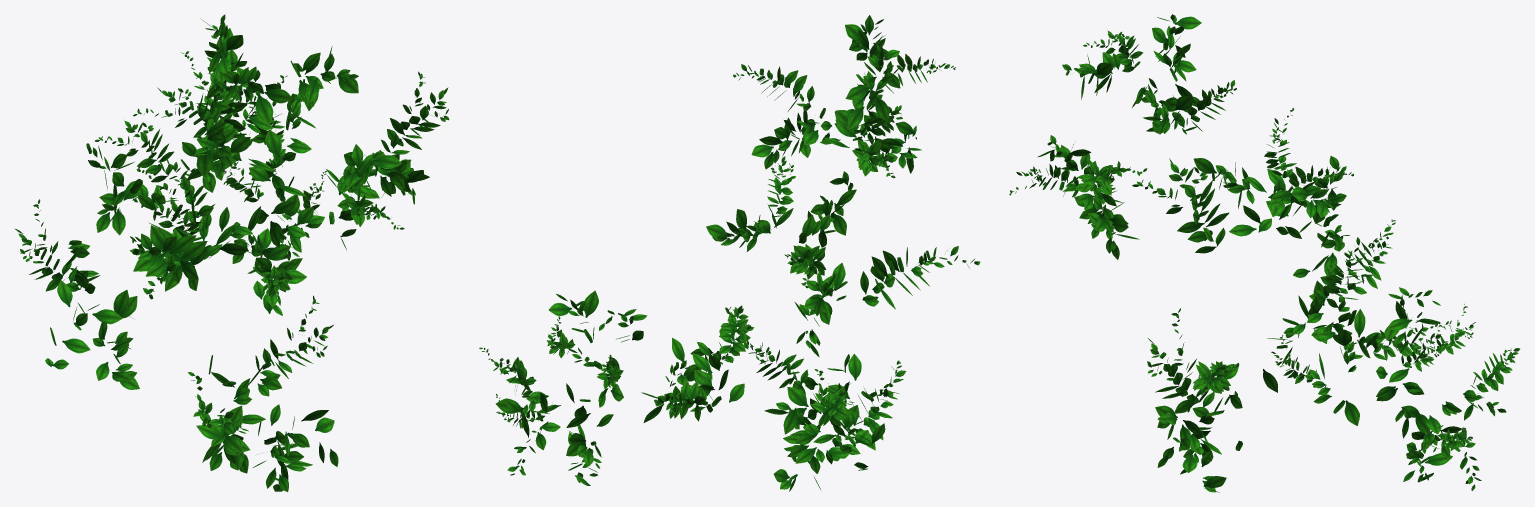
File: Tree_leaves_joined.fbx
3 renders of one model, left to right at view 1: azimuth 30°, elevation 25°; view 2: azimuth 150°, elevation 25°; view 3: azimuth 270°, elevation 25°, orthographic. The views are drawn at different scales.
Visible parts, largest first — view 1: leaves.001; view 2: leaves.001; view 3: leaves.001.
Boxes of the visible parts, <box> form: leaves.001: <box>15,14,449,491</box>; leaves.001: <box>479,15,980,491</box>; leaves.001: <box>1009,14,1519,492</box>.
Bounding box in the file's own units: 1317 × 1758 × 1824.
1 material, 1 textured.
